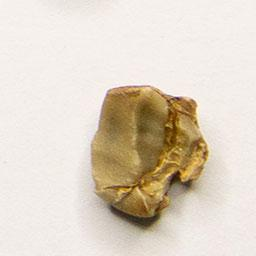defect: (87, 81, 210, 221)
